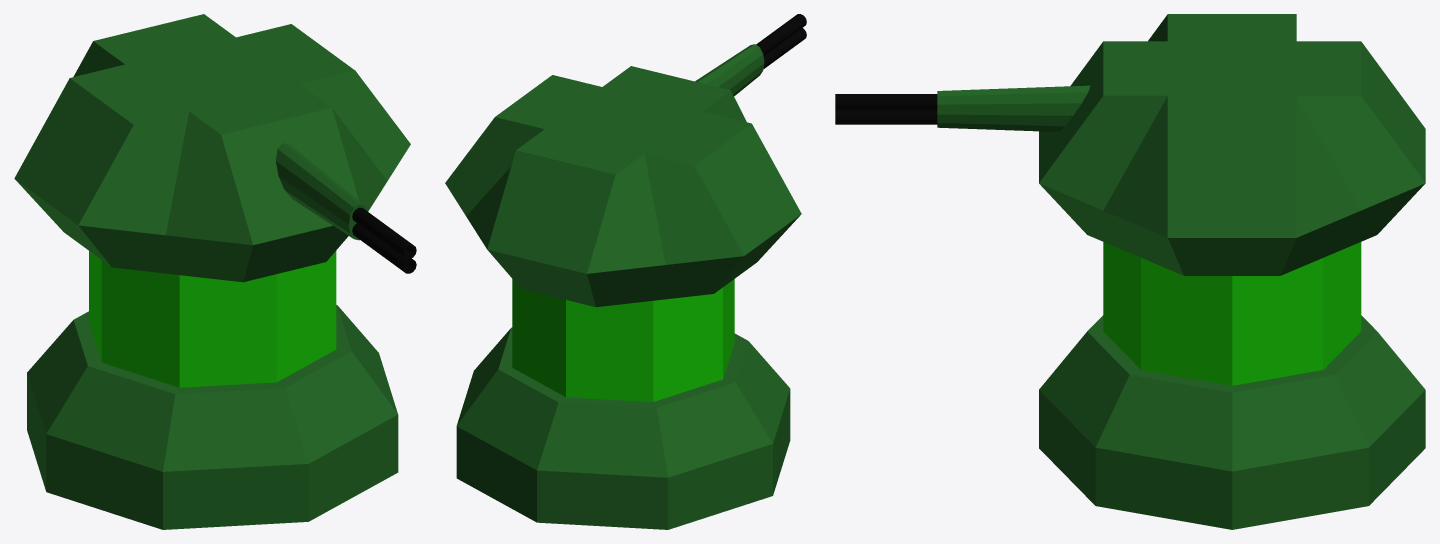
File: Turret0_1.glb
3 renders of one model, left to right at view 1: azimuth 30°, elevation 25°; view 2: azimuth 150°, elevation 25°; view 3: azimuth 270°, elevation 25°, orthographic. The views are drawn at different scales.
Parts seen in each view (by area): view 1: TurretUpgradePath0_1; view 2: TurretUpgradePath0_1; view 3: TurretUpgradePath0_1.
Part boxes in pixels (x1,y1,x2,y2): TurretUpgradePath0_1: (14, 14, 416, 529); TurretUpgradePath0_1: (445, 14, 806, 529); TurretUpgradePath0_1: (835, 14, 1425, 529).
Size of the model in its own units: 3 by 3.25 by 4.58.
